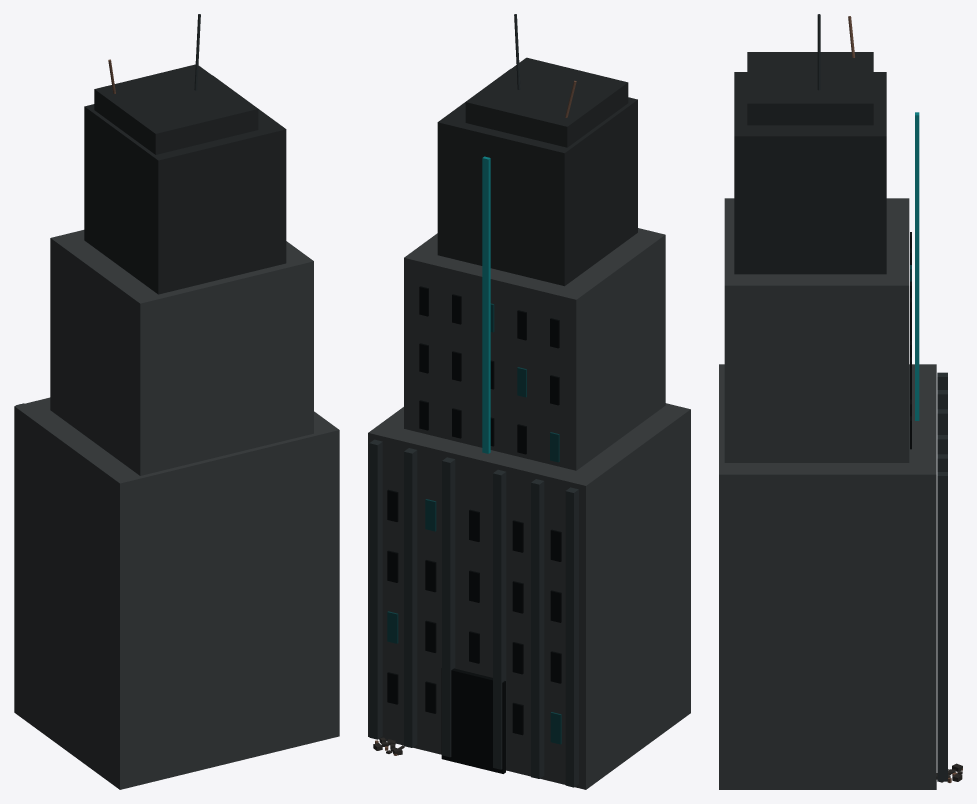
File: RuinedTower_C.obj
3 views of the same model, side by side, from view 1: azimuth 30°, elevation 25°; view 2: azimuth 150°, elevation 25°; view 3: azimuth 270°, elevation 25° (orthographic). The views are drawn at different scales.
Parts seen in each view (by area): view 1: Architecture; view 2: Architecture, Facade, WindowsLower, Entrance, WindowsUpper, CyanLights; view 3: Architecture, Facade, CyanLights.
Boxes of the visible parts, x1,y1,x2,y2 form: Architecture: (14, 64, 339, 789); Architecture: (368, 57, 690, 789); Facade: (369, 439, 578, 787); WindowsLower: (387, 489, 561, 744); Entrance: (441, 668, 505, 773); WindowsUpper: (419, 286, 559, 462); CyanLights: (482, 156, 490, 453); Architecture: (719, 52, 936, 789); Facade: (937, 372, 947, 781); CyanLights: (915, 112, 919, 420).
Bounding box in the file's own units: 12 × 37 × 11.21.
